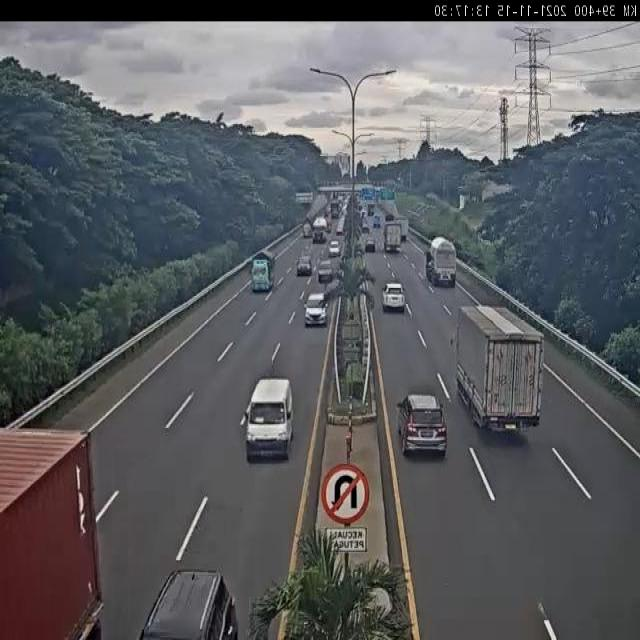Car: (138, 568, 236, 640), (398, 392, 448, 457), (303, 291, 330, 327), (379, 283, 406, 311), (317, 260, 333, 283), (296, 254, 311, 276), (328, 240, 341, 256), (364, 236, 376, 252)
Truck: (0, 419, 102, 640), (449, 301, 547, 437), (424, 237, 458, 287), (248, 249, 278, 293), (382, 219, 402, 255), (311, 216, 327, 244), (394, 213, 409, 240), (330, 198, 340, 219), (368, 202, 374, 215)
Van: (243, 377, 296, 464)
